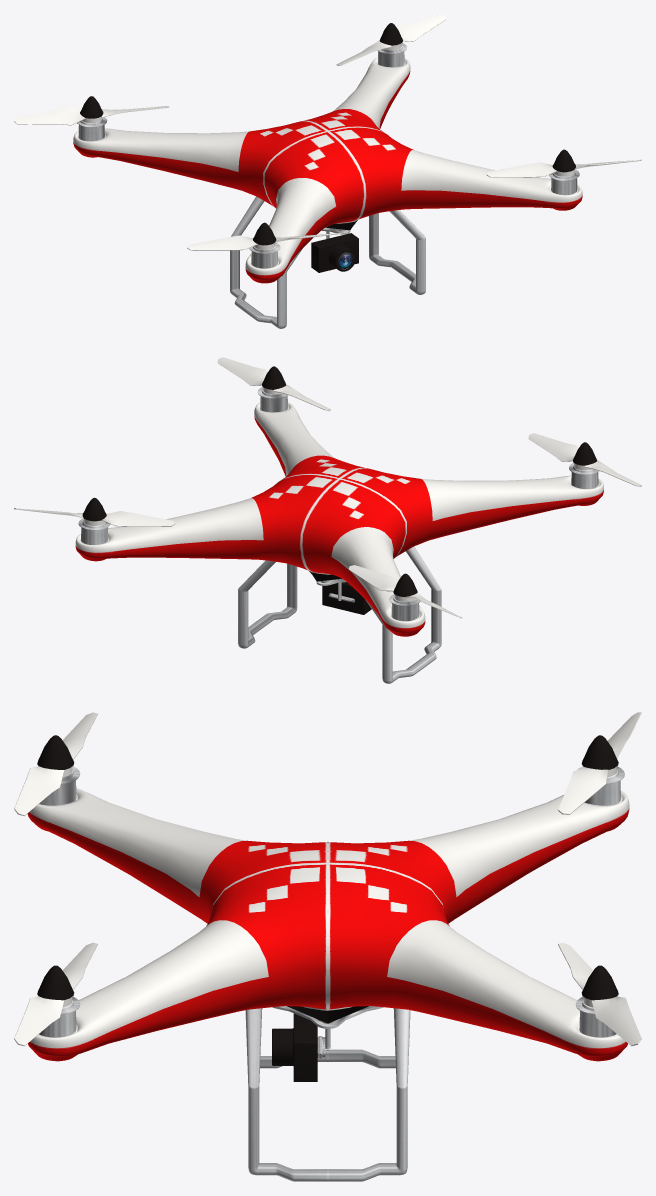
File: Drone.fbx
The picture shows the model from 3 angles, top to bottom: view 1: azimuth 30°, elevation 25°; view 2: azimuth 150°, elevation 25°; view 3: azimuth 270°, elevation 25°; orthographic projection. The views are drawn at different scales.
Parts seen in each view (by area): view 1: Object011, Object009, Line074, Object008, Object010, Object012; view 2: Object011, Object008, Object012, Object010, Object009, Line074; view 3: Object011, Object008, Object012, Object010, Object009, Line074.
Boxes of the visible parts, x1,y1,x2,y2 form: Object011: [73, 43, 582, 328]; Object009: [14, 96, 169, 125]; Line074: [311, 233, 358, 272]; Object008: [486, 149, 641, 177]; Object010: [187, 222, 342, 250]; Object012: [336, 14, 445, 65]; Object011: [75, 387, 603, 683]; Object008: [217, 357, 330, 411]; Object012: [14, 497, 174, 526]; Object010: [528, 433, 641, 486]; Object009: [348, 565, 461, 618]; Line074: [322, 582, 371, 614]; Object011: [27, 766, 629, 1181]; Object008: [14, 942, 97, 1046]; Object012: [558, 942, 641, 1046]; Object010: [14, 712, 97, 815]; Object009: [558, 712, 641, 814]; Line074: [272, 1013, 322, 1081].
Bounding box in the file's own units: 61.67 × 23.45 × 49.42.
1 material, 1 textured.
